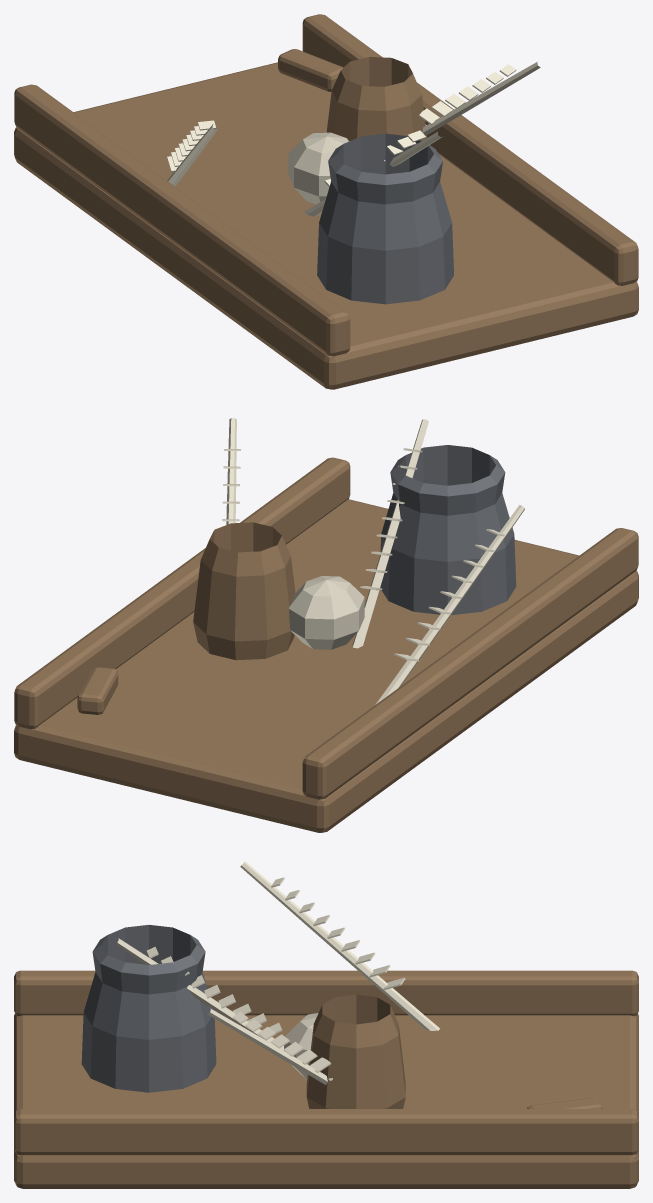
File: monastery_quill_and_inkhorn_set.glb
3 views of the same model, one above another, from view 1: azimuth 30°, elevation 25°; view 2: azimuth 150°, elevation 25°; view 3: azimuth 270°, elevation 25° (orthographic).
Visible parts, largest first — view 1: world; view 2: world; view 3: world.
Boxes of the visible parts, left/top/right/bottom form: world: left=14, top=14, right=638, bottom=389; world: left=14, top=418, right=638, bottom=832; world: left=14, top=861, right=638, bottom=1188.
Bounding box in the file's own units: 1.14 × 0.7939 × 2.
